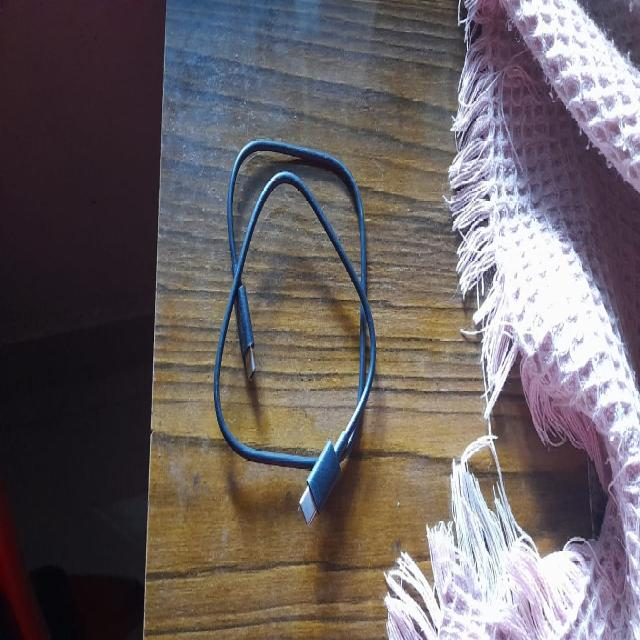Charger - Recyclable: (213, 134, 377, 528)
